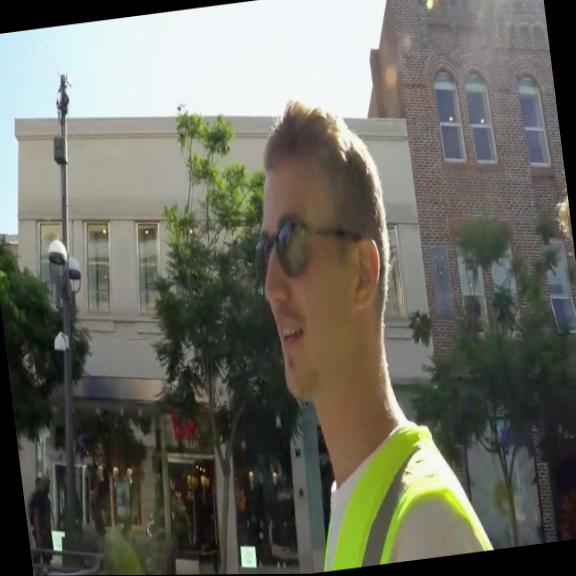safety_vest: (294, 412, 526, 573)
